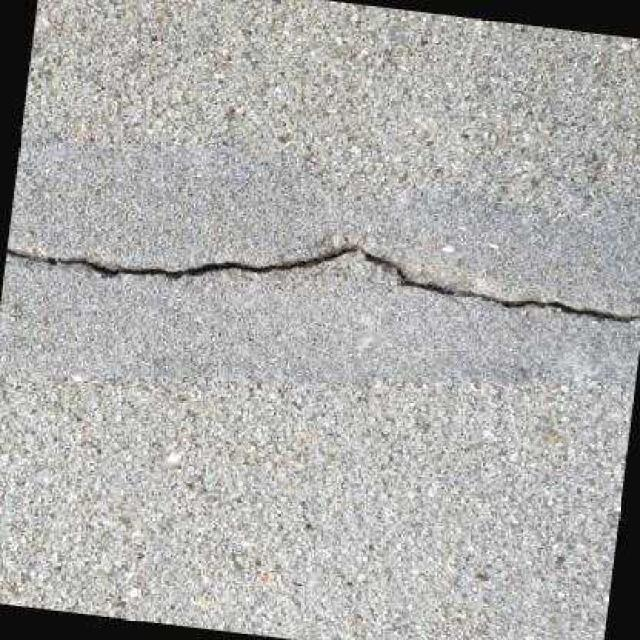D00: (6, 243, 640, 319)
